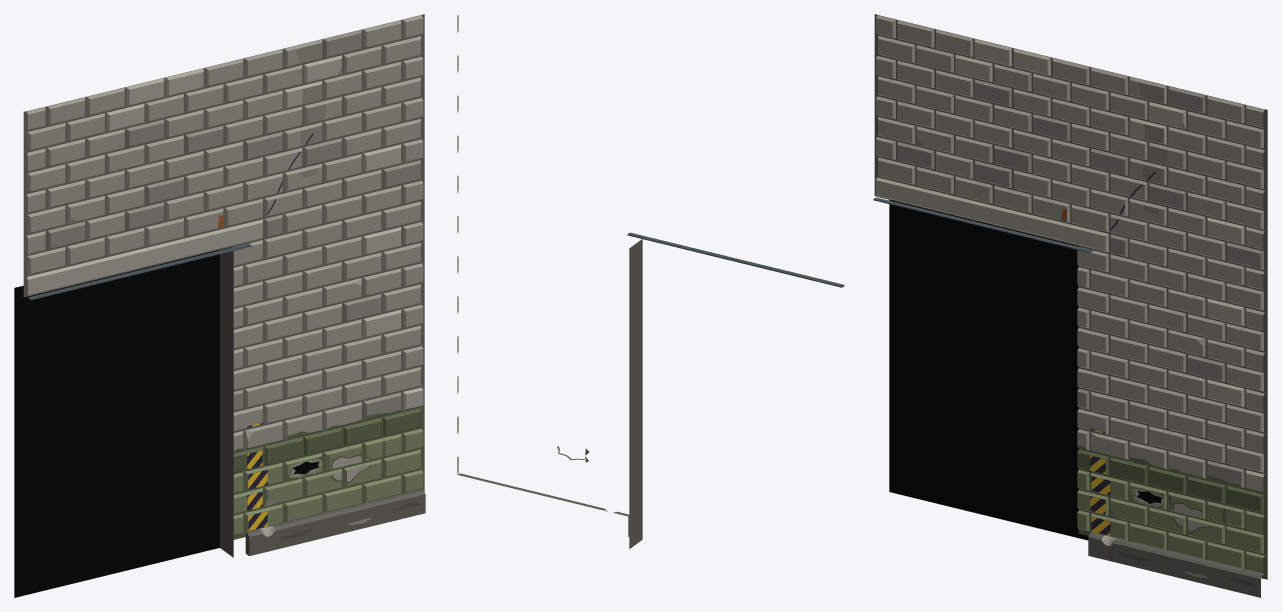
Rendered from wall_panel_door.glb.
3 views of the same model, side by side, from view 1: azimuth 30°, elevation 25°; view 2: azimuth 150°, elevation 25°; view 3: azimuth 330°, elevation 25° (orthographic). The views are drawn at different scales.
Parts seen in each view (by area): view 1: Wall; view 2: Wall; view 3: Wall.
Part boxes in pixels (bbox=[...]): Wall: bbox=[14, 14, 425, 597]; Wall: bbox=[457, 15, 844, 548]; Wall: bbox=[873, 14, 1267, 597].
Size of the model in its own units: 5.08 by 5.99 by 0.36.
